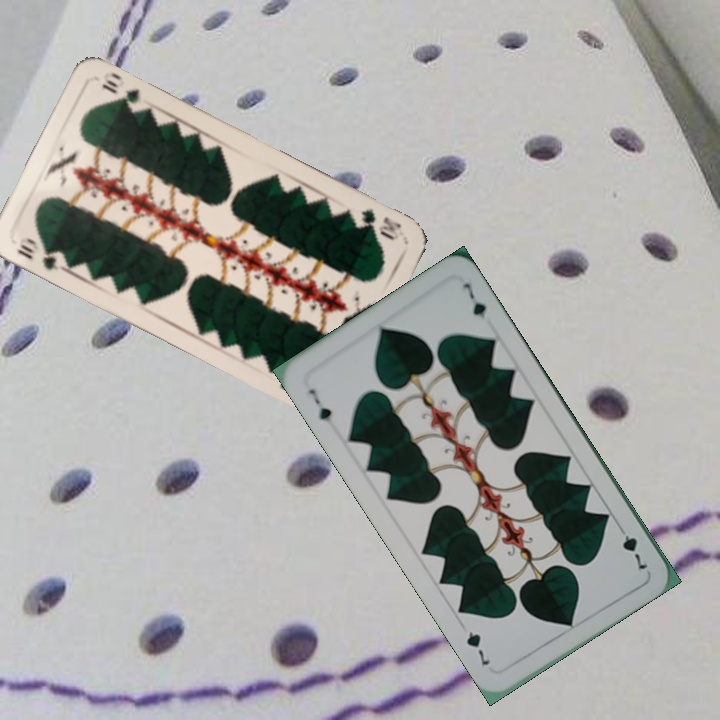G10: (12, 235, 64, 273), (357, 204, 404, 243)
G7: (613, 520, 651, 573), (304, 385, 335, 424)
